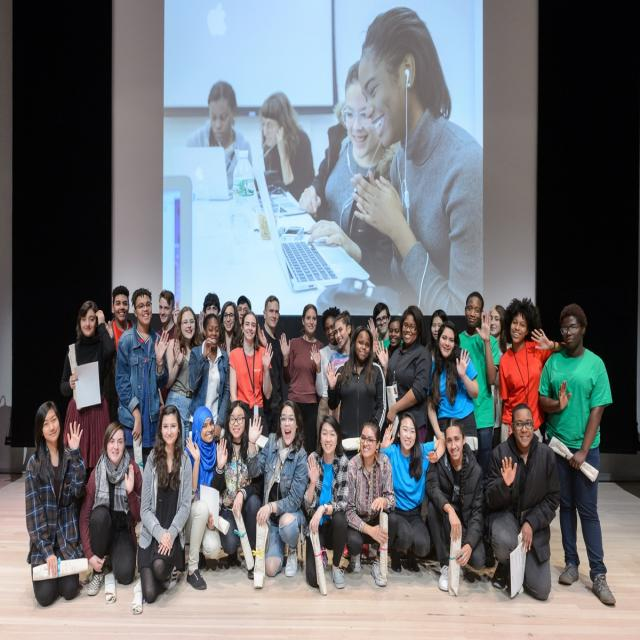body: (169, 0, 481, 315), (536, 300, 618, 608), (481, 401, 562, 603), (324, 323, 390, 561), (23, 401, 88, 607), (78, 420, 143, 606), (422, 415, 485, 597), (246, 401, 310, 578), (137, 403, 193, 605), (379, 410, 447, 574), (114, 287, 171, 474), (496, 294, 562, 448), (210, 399, 264, 580), (60, 299, 117, 470), (342, 413, 398, 587), (458, 291, 500, 496), (302, 413, 350, 590), (376, 304, 434, 443), (426, 320, 480, 463), (182, 405, 223, 592), (278, 301, 326, 455), (186, 312, 232, 444), (228, 309, 274, 438), (164, 305, 202, 454), (310, 306, 342, 456), (255, 294, 287, 437), (485, 304, 513, 452), (105, 284, 136, 361), (326, 309, 354, 375), (372, 314, 403, 373), (154, 287, 181, 343), (218, 299, 242, 359), (425, 308, 450, 361), (369, 301, 392, 351), (196, 315, 205, 336), (238, 314, 245, 332), (214, 314, 220, 324), (203, 314, 209, 320)
